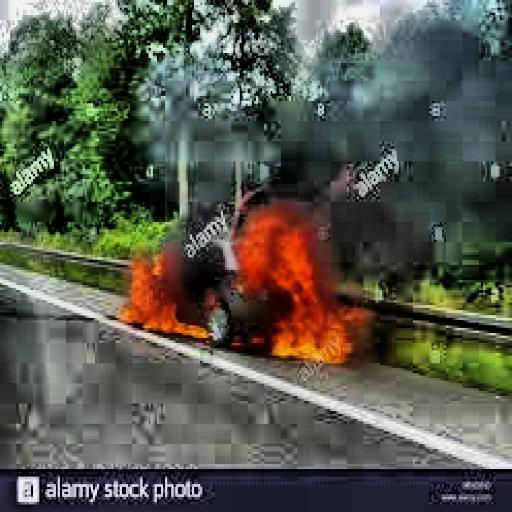fire: (124, 197, 357, 373)
